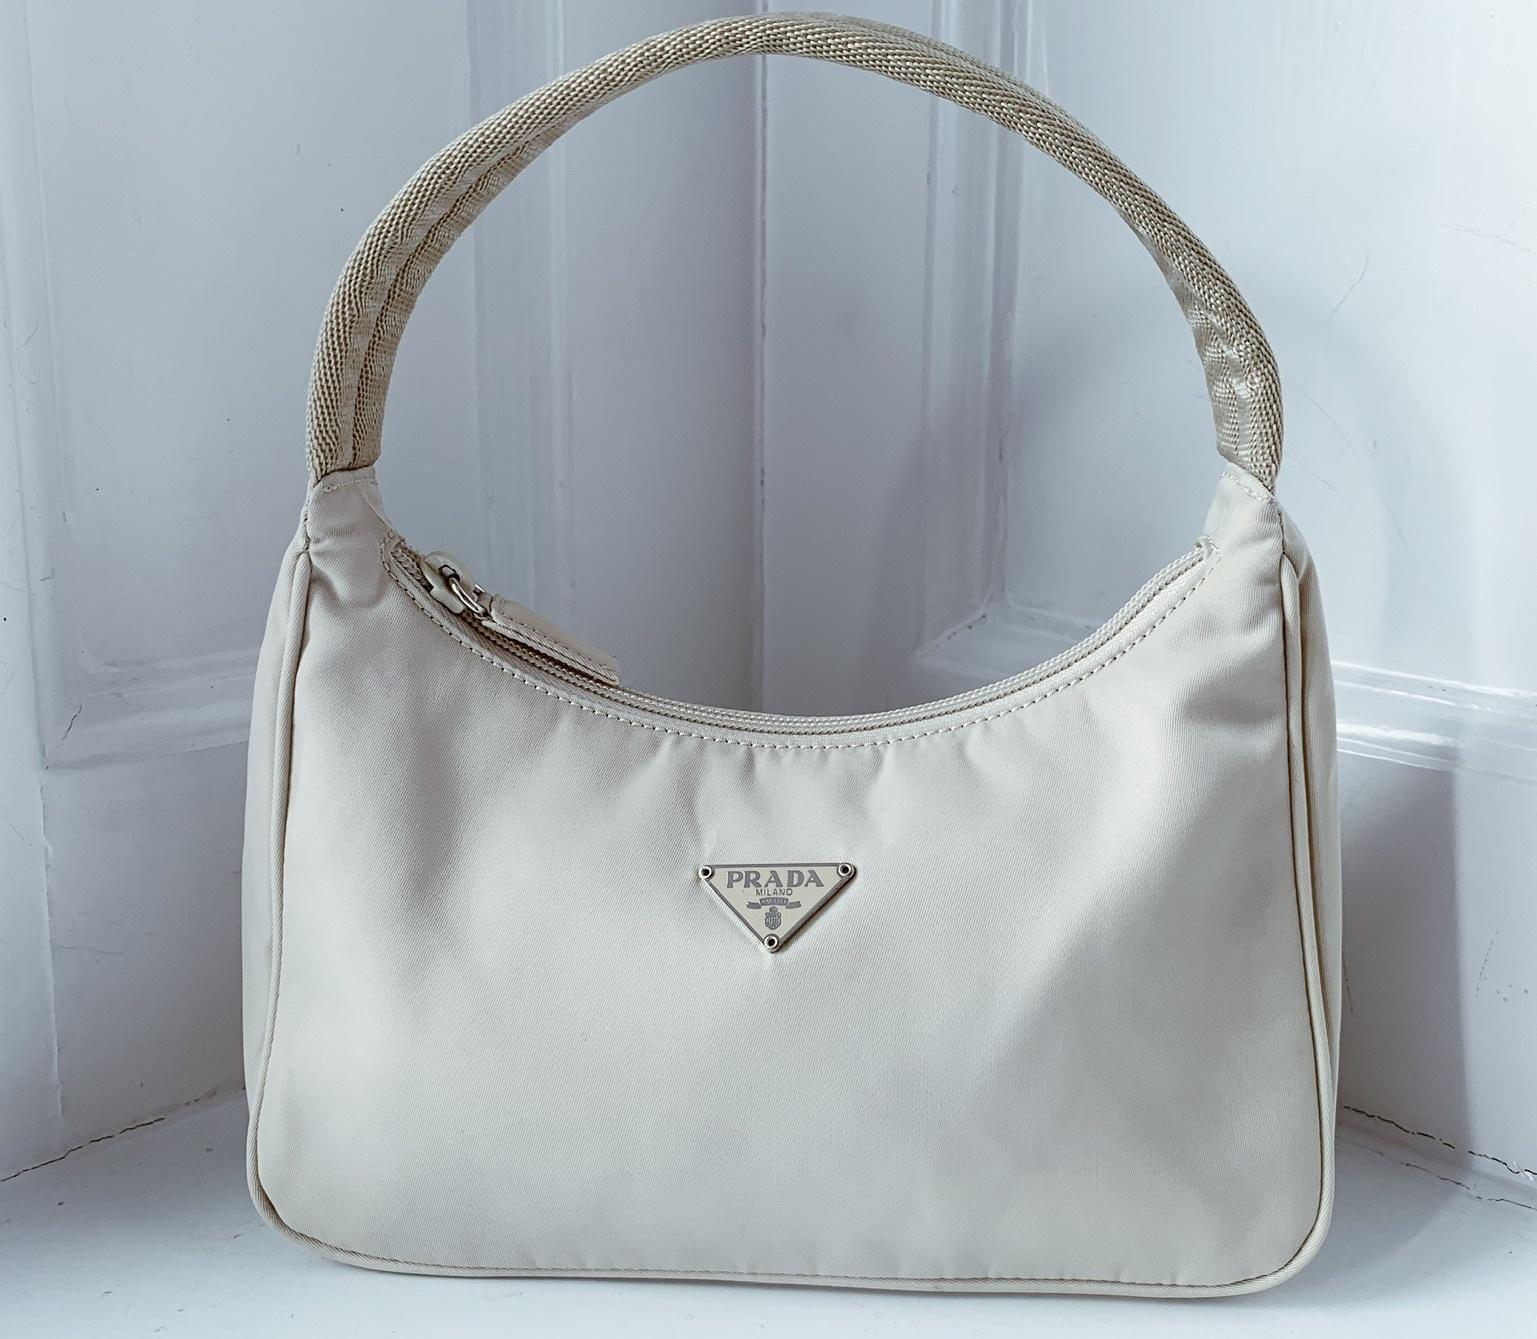PRADA: (698, 861, 855, 954)
